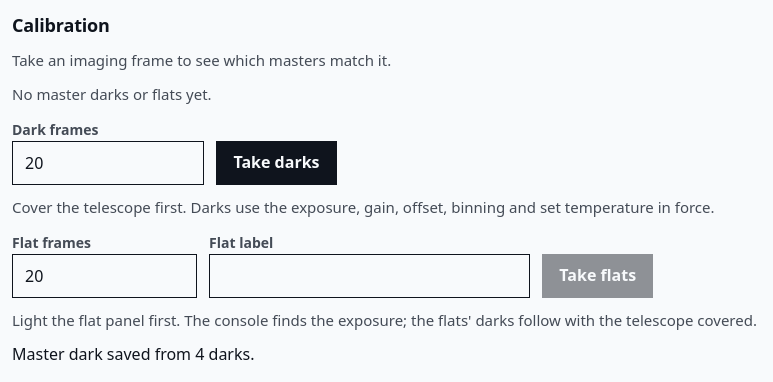
US9-S4: progress, endings and controls › shows {"state":"done"} with its exact status and Stop only while running
Expected: the message reads "Master dark saved from 4 darks.", [12, 344, 254, 366]
Type "desk" into the field labelled "Flat label" at point(370, 276), box [209, 254, 530, 298]
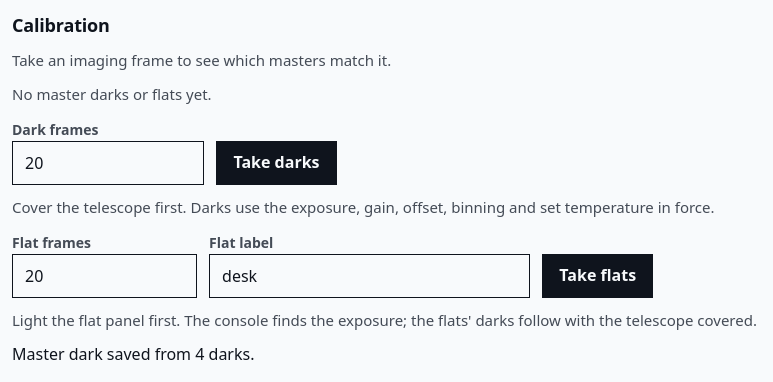
Expected: the button "Take darks" is enabled, [216, 141, 336, 185]
Expected: the button "Take flats" is enabled, [542, 254, 653, 298]
